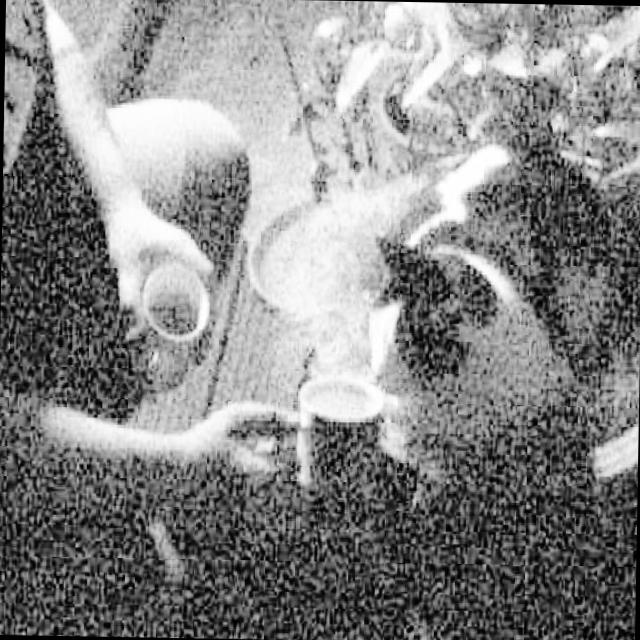Cat: (354, 152, 632, 458)
